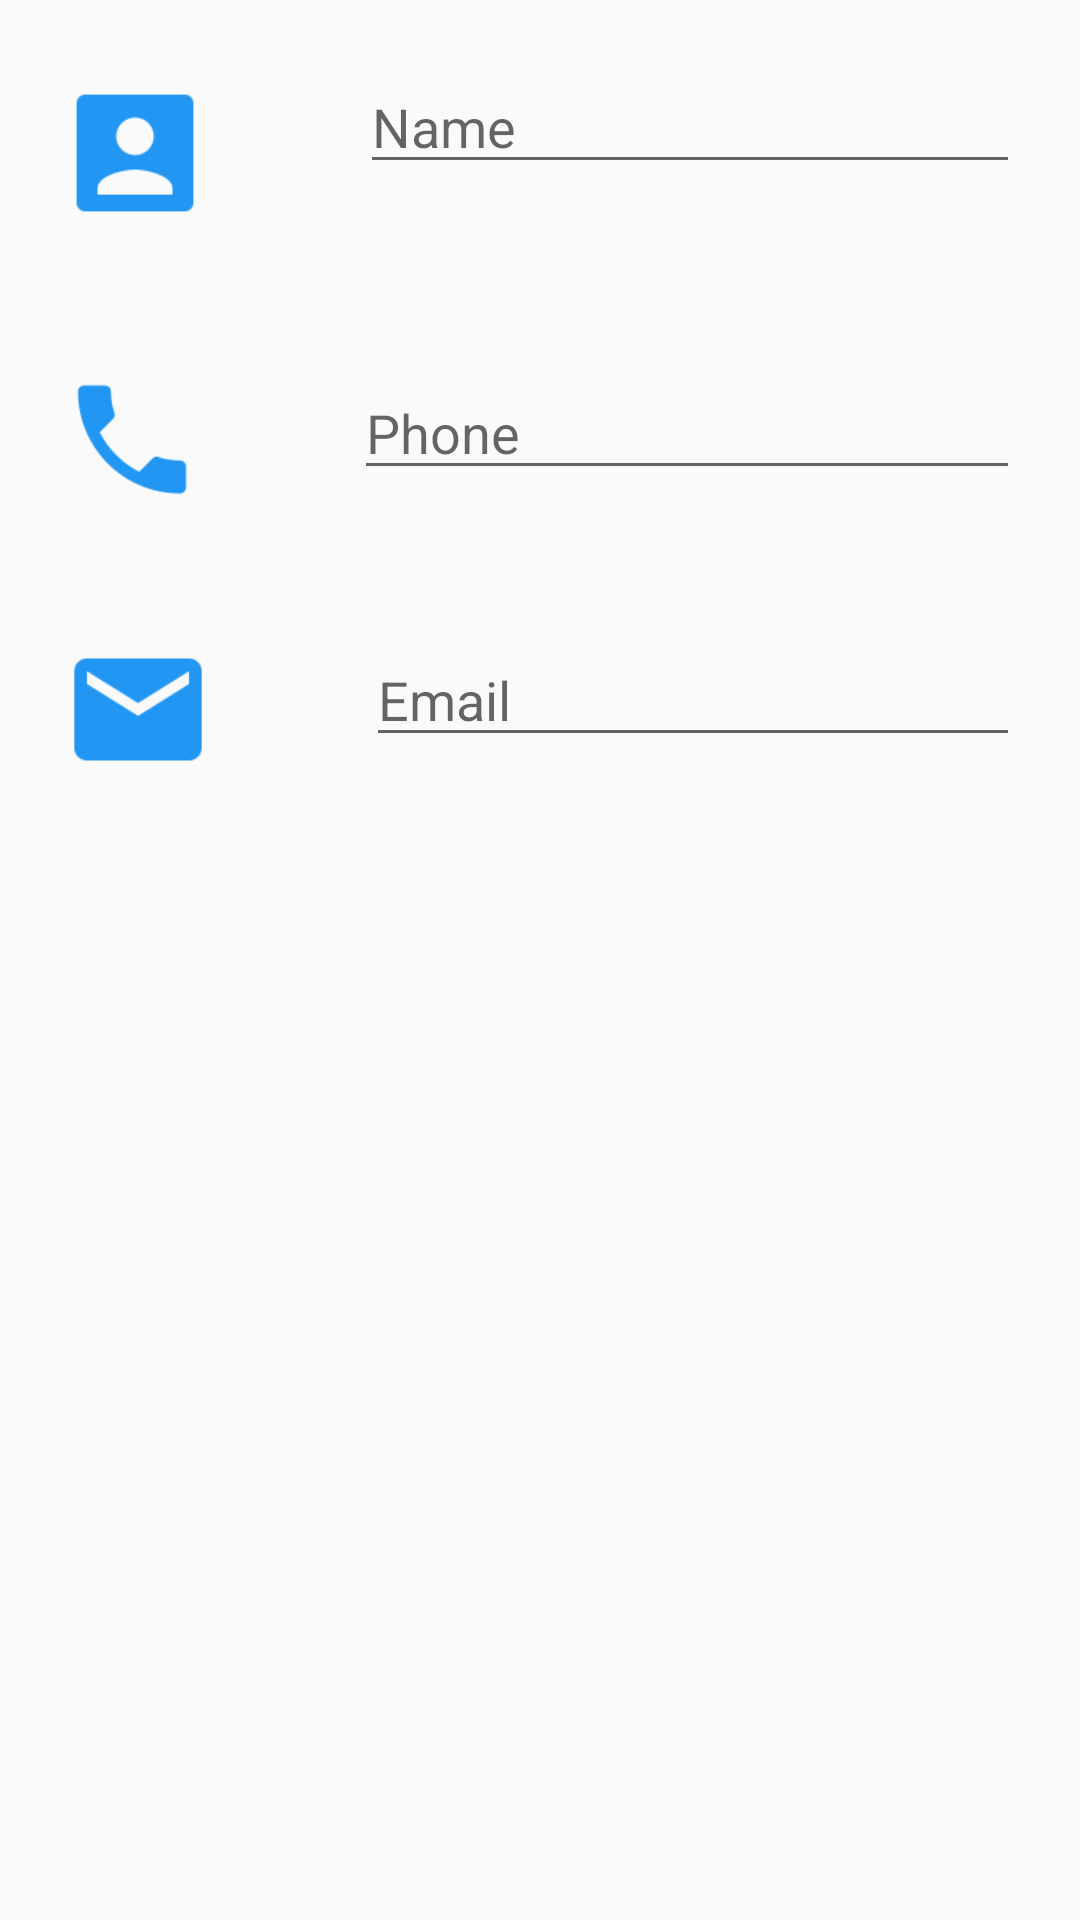

Screen size 1080px×1920px. Icon name, then its center in pixels as (x,y):
account box: (135,153)
call: (132,439)
